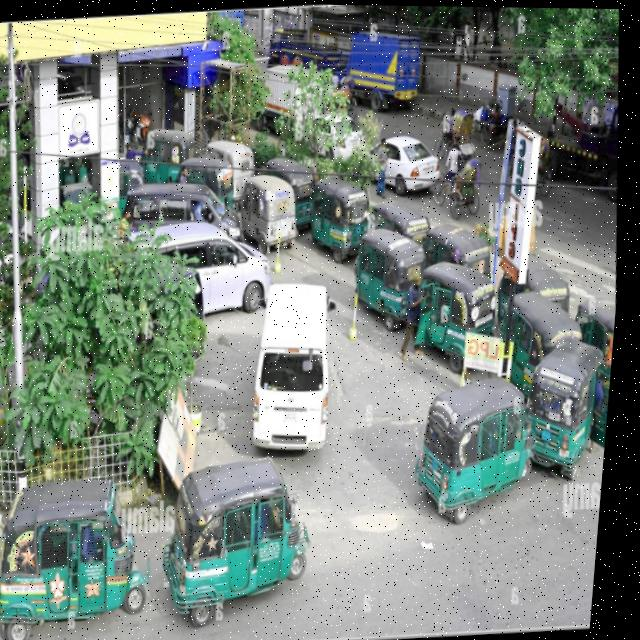cng: (159, 423, 339, 633), (0, 443, 170, 640), (400, 350, 551, 523), (414, 251, 518, 387), (531, 316, 620, 469), (341, 229, 436, 337), (297, 170, 384, 253), (132, 110, 198, 190)
